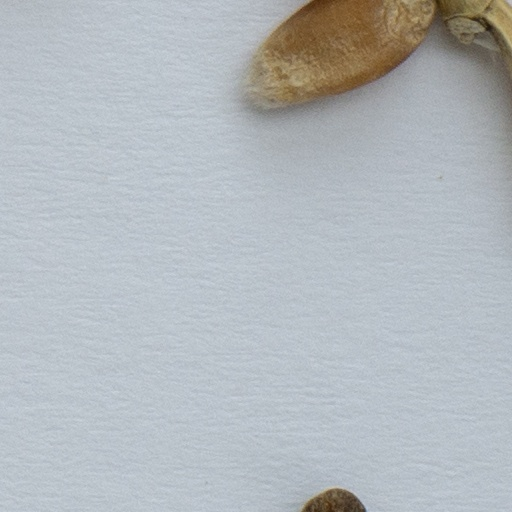Peel-poly: (432, 0, 511, 85)
Wheat-grain-poly: (245, 0, 436, 109)
